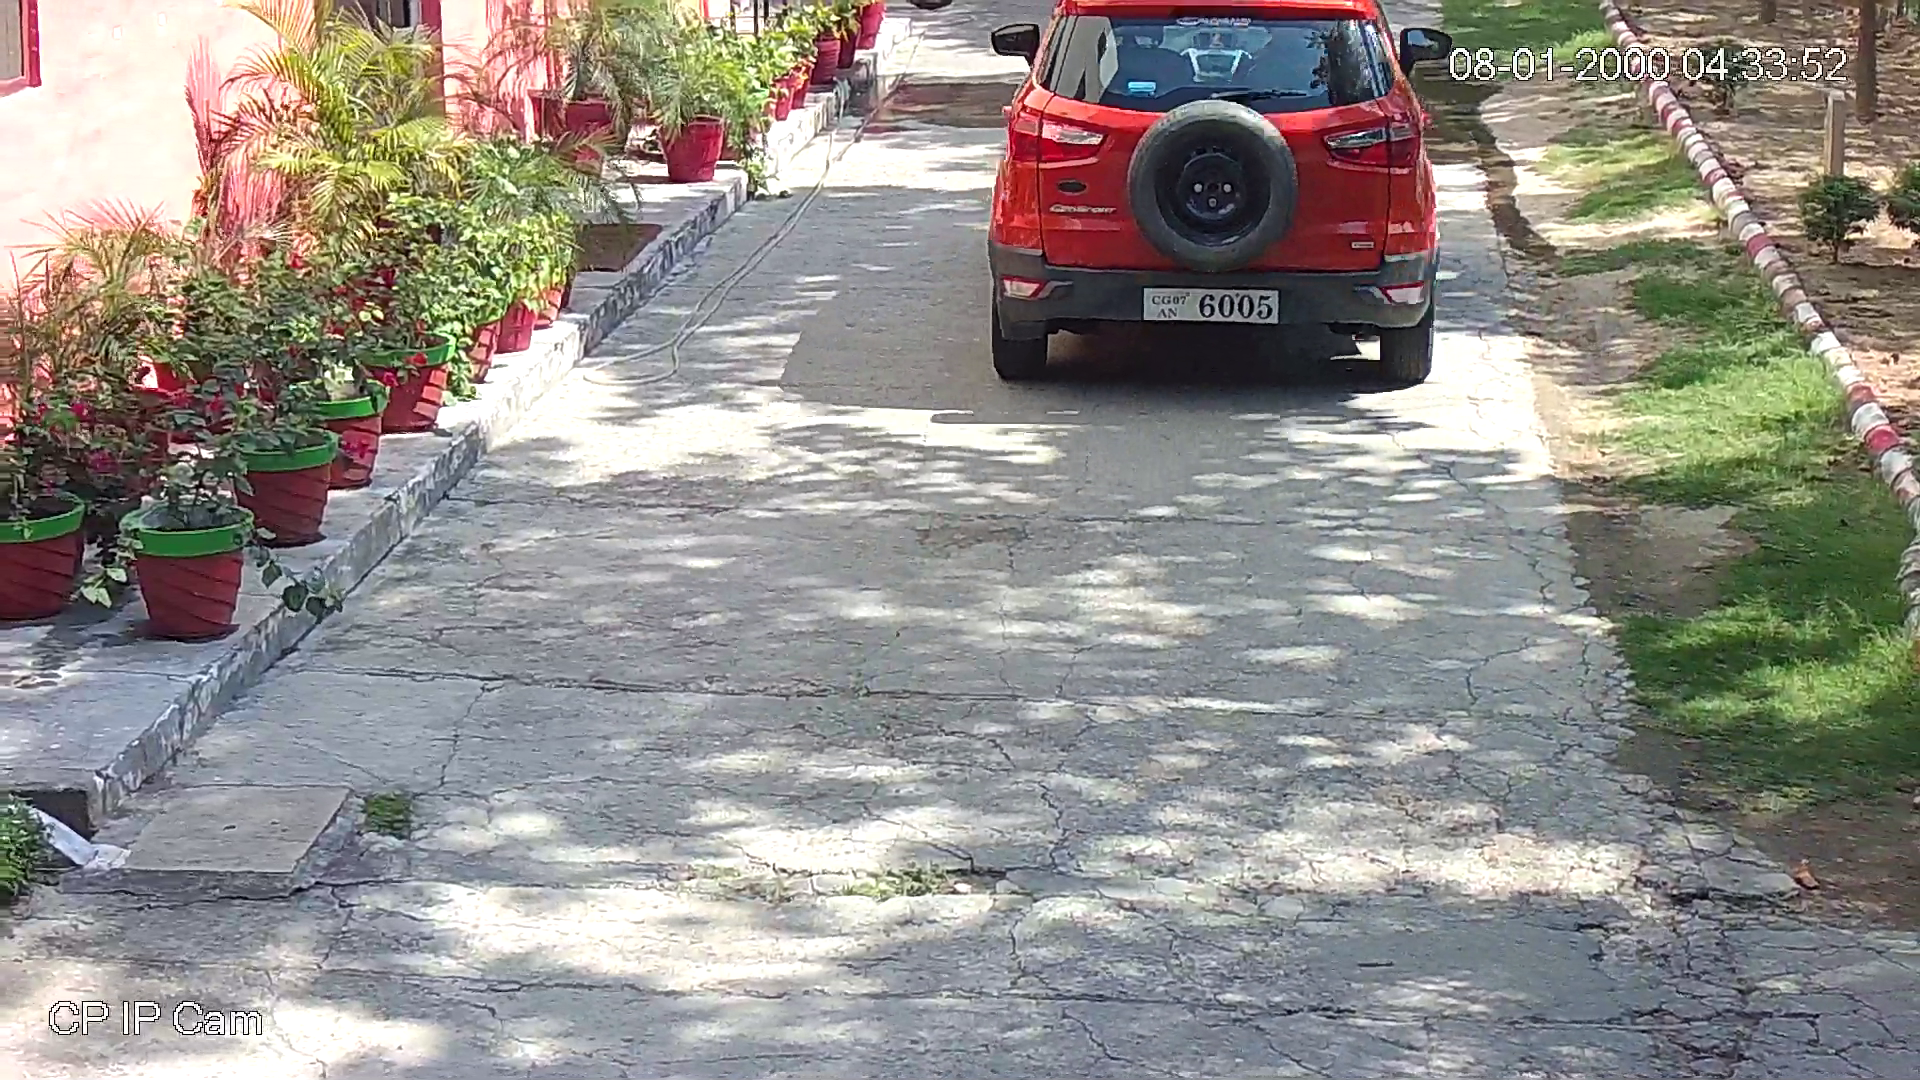plate: (1135, 282, 1292, 326)
